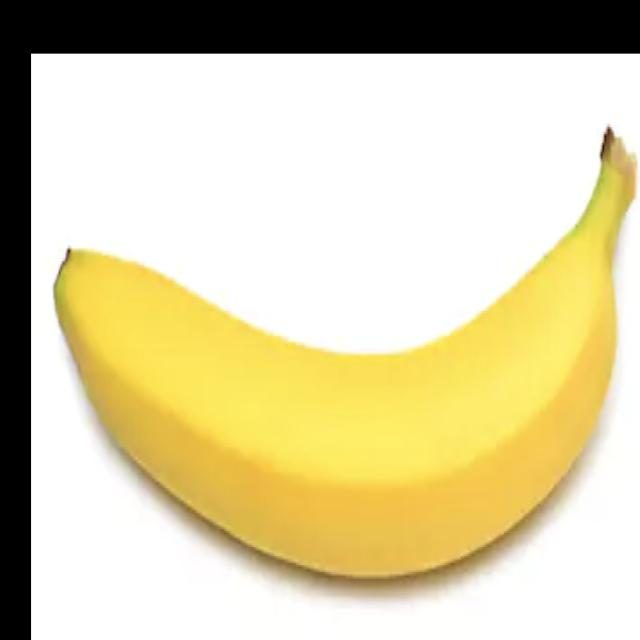Ripe: (46, 104, 640, 578)
